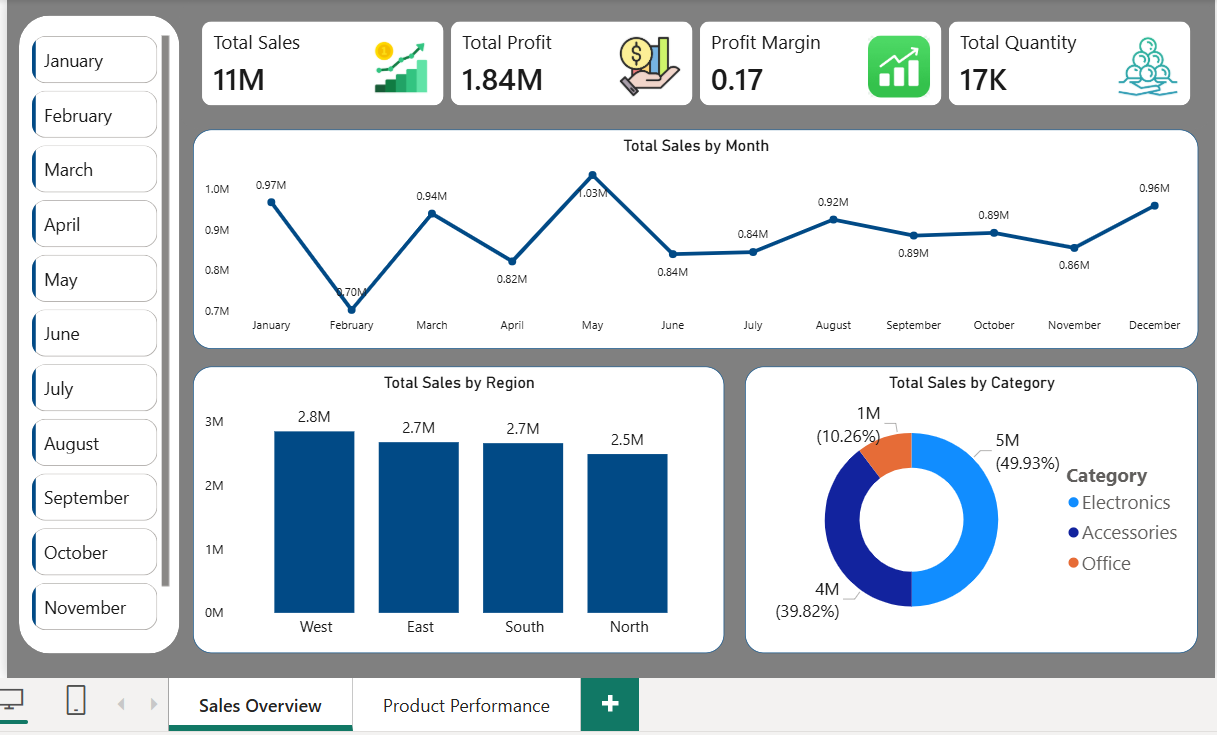

The dashboard page shown, as its layout file describes it:
{"tool":"powerbi","page":{"name":"Sales Overview","canvas":[1280,720],"ordinal":0},"visuals":[{"type":"cardVisual","fields":{"Data":["ecommerce_sales_data.Total Sales","ecommerce_sales_data.Total Profit","ecommerce_sales_data.Profit Margin","ecommerce_sales_data.Total Quantity"]},"box":[183.3,0,1096.1,138],"z":0},{"type":"lineChart","fields":{"Y":["ecommerce_sales_data.Total Sales"],"Category":["ecommerce_sales_data.Order Date.Variation.Date Hierarchy.Month"]},"box":[196.5,138,1065.8,232.4],"z":1000},{"type":"columnChart","fields":{"Category":["ecommerce_sales_data.Region"],"Y":["ecommerce_sales_data.Total Sales"]},"box":[196.5,389.3,563.2,304.3],"z":2000},{"type":"donutChart","fields":{"Category":["ecommerce_sales_data.Category"],"Y":["ecommerce_sales_data.Total Sales"]},"box":[782.4,389.3,480,304.3],"z":3000},{"type":"shape","box":[13.2,17,170.1,676.5],"z":4000},{"type":"advancedSlicerVisual","fields":{"Values":["ecommerce_sales_data.Order Date.Variation.Date Hierarchy.Month"]},"box":[20.8,34,156.9,642.5],"z":5000}]}

Visuals, with their boxes on the page's 1280x720 design canvas (x1, y1, x2, y2). These are canvas units, not pixel positions in the 1217x735 screenshot, which may show the page scaled, cropped or inside an application window:
cardVisual - ecommerce_sales_data.Total Sales x ecommerce_sales_data.Total Profit: box=[183, 0, 1279, 138]
lineChart - ecommerce_sales_data.Total Sales x ecommerce_sales_data.Order Date.Variation.Date Hierarchy.Month: box=[196, 138, 1262, 370]
columnChart - ecommerce_sales_data.Region x ecommerce_sales_data.Total Sales: box=[196, 389, 760, 694]
donutChart - ecommerce_sales_data.Category x ecommerce_sales_data.Total Sales: box=[782, 389, 1262, 694]
shape: box=[13, 17, 183, 694]
advancedSlicerVisual - ecommerce_sales_data.Order Date.Variation.Date Hierarchy.Month: box=[21, 34, 178, 676]
